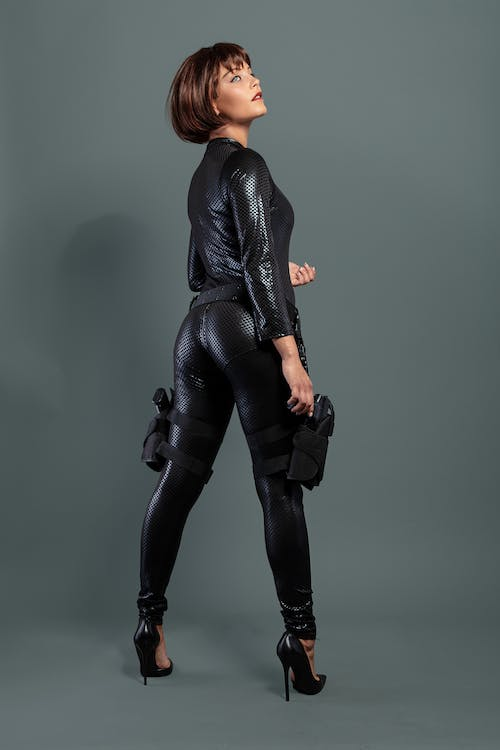gun: (284, 390, 336, 498), (138, 383, 172, 470)
